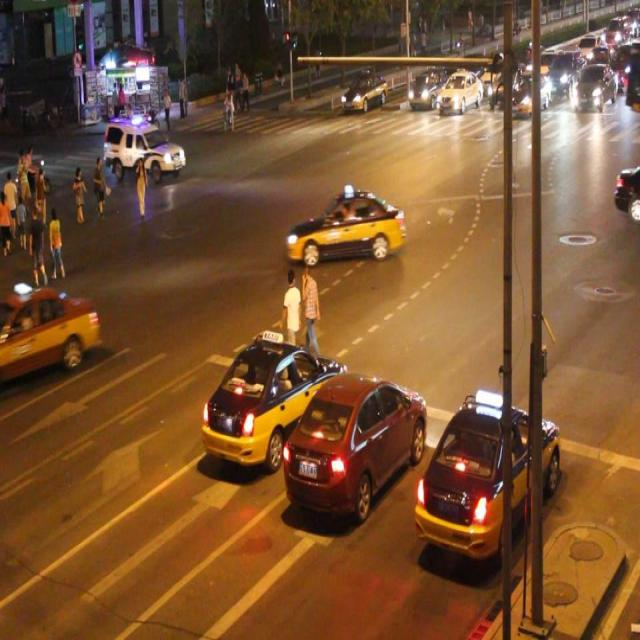car: (418, 388, 560, 558), (287, 372, 423, 518), (203, 328, 346, 462), (1, 282, 96, 382), (287, 187, 403, 263), (105, 118, 184, 182), (436, 70, 481, 113), (342, 71, 386, 114), (610, 158, 640, 218), (406, 68, 444, 109)
